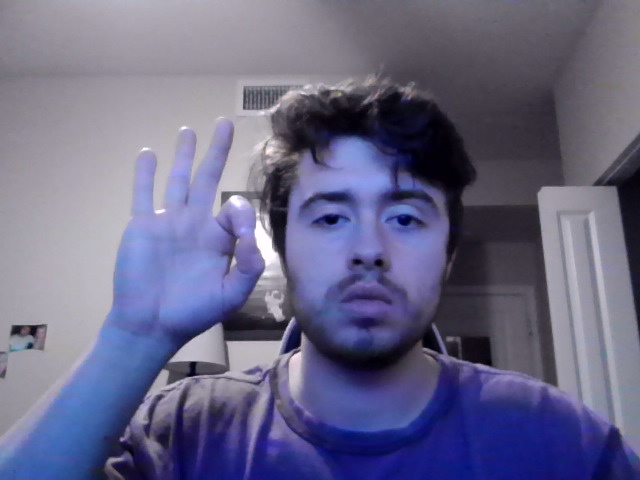f: (111, 115, 266, 369)
